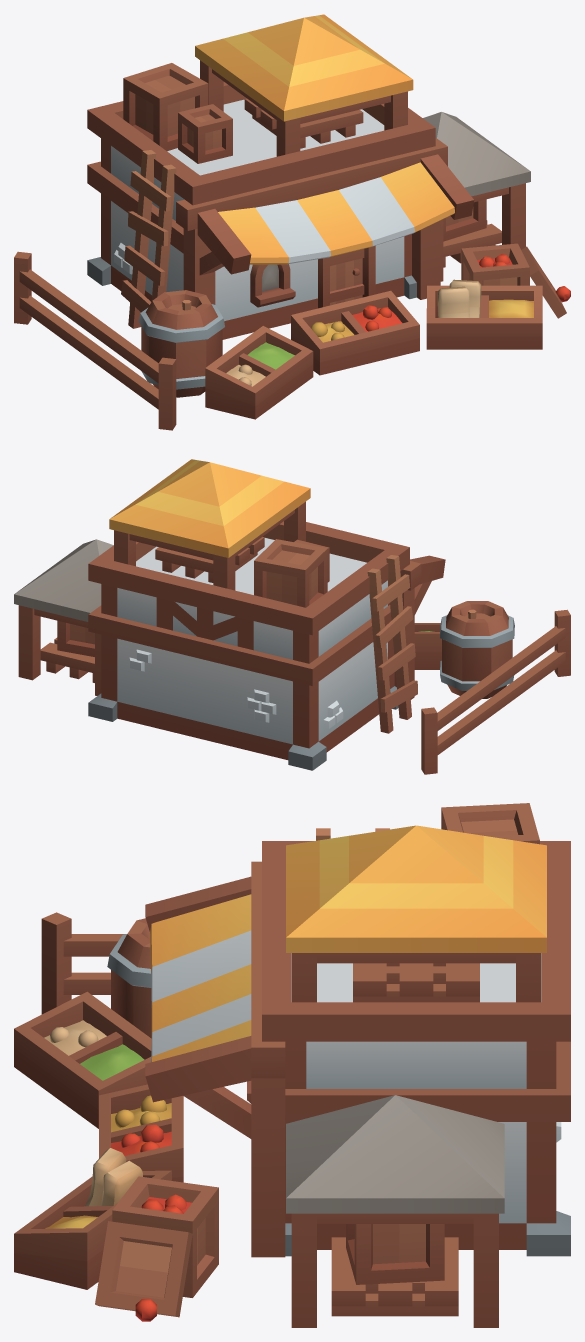
File: shipping-yard.glb
3 renders of one model, top to bottom at view 1: azimuth 30°, elevation 25°; view 2: azimuth 150°, elevation 25°; view 3: azimuth 270°, elevation 25°, orthographic. The views are drawn at different scales.
Parts seen in each view (by area): view 1: building_market_yellow; view 2: building_market_yellow; view 3: building_market_yellow.
Boxes of the visible parts, x1,y1,x2,y2 form: building_market_yellow: (14, 14, 570, 430); building_market_yellow: (14, 459, 570, 774); building_market_yellow: (14, 803, 570, 1327).
Size of the model in its own units: 1.8 by 0.9818 by 1.32.
Materials: 1 (1 with a texture image).
